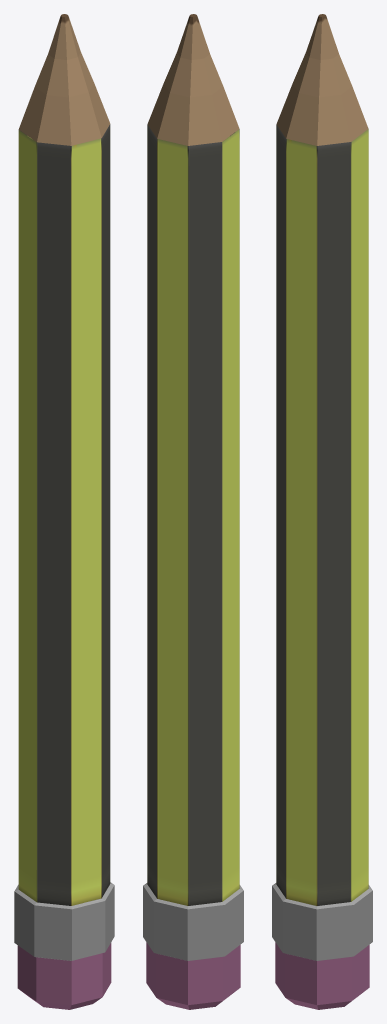
Rendered from lapiz.fbx.
The picture shows the model from 3 angles, left to right: view 1: azimuth 30°, elevation 25°; view 2: azimuth 150°, elevation 25°; view 3: azimuth 330°, elevation 25°; orthographic projection.
Parts seen in each view (by area): view 1: lapiz; view 2: lapiz; view 3: lapiz.
Part boxes in pixels (x1,y1,x2,y2): lapiz: (14,14,114,1009); lapiz: (143,14,243,1009); lapiz: (272,14,372,1009).
Bounding box in the file's own units: 1.3 × 14.9 × 1.3.
